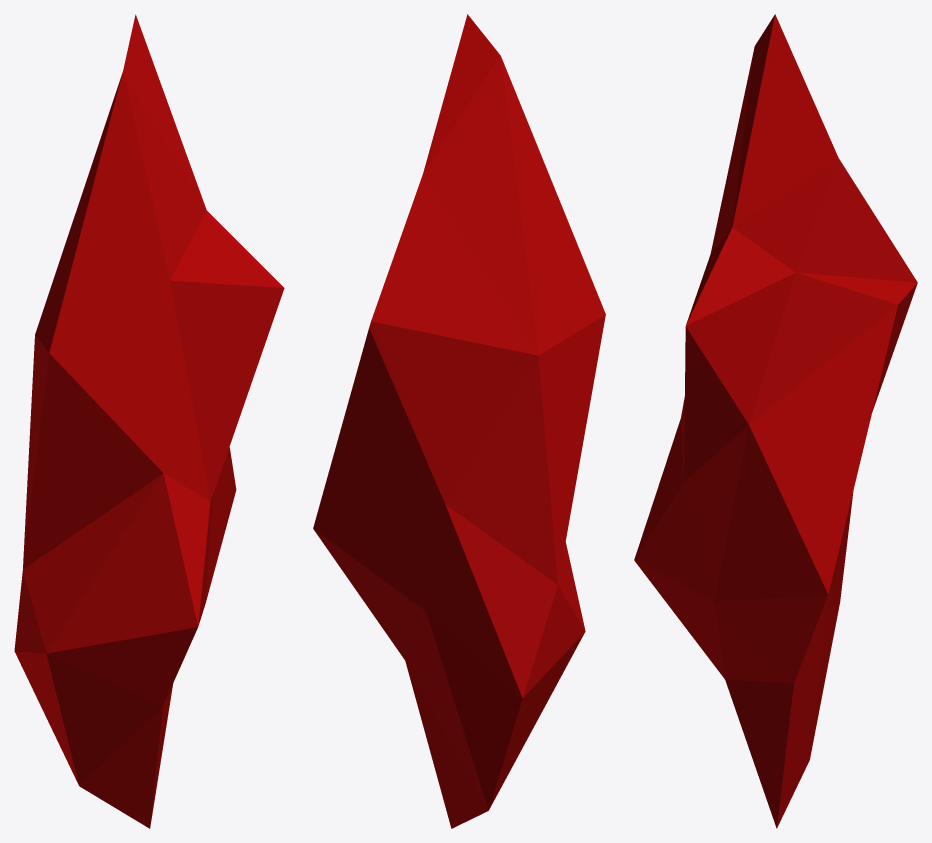
The model's file is ResurrectionCrystal.fbx.
3 views of the same model, side by side, from view 1: azimuth 30°, elevation 25°; view 2: azimuth 150°, elevation 25°; view 3: azimuth 270°, elevation 25° (orthographic).
Parts seen in each view (by area): view 1: ResurrectionCrystal; view 2: ResurrectionCrystal; view 3: ResurrectionCrystal.
Part boxes in pixels (x1,y1,x2,y2): ResurrectionCrystal: (14, 14, 284, 828); ResurrectionCrystal: (313, 14, 605, 828); ResurrectionCrystal: (634, 14, 917, 828).
Size of the model in its own units: 5.08 by 16.58 by 5.28.
